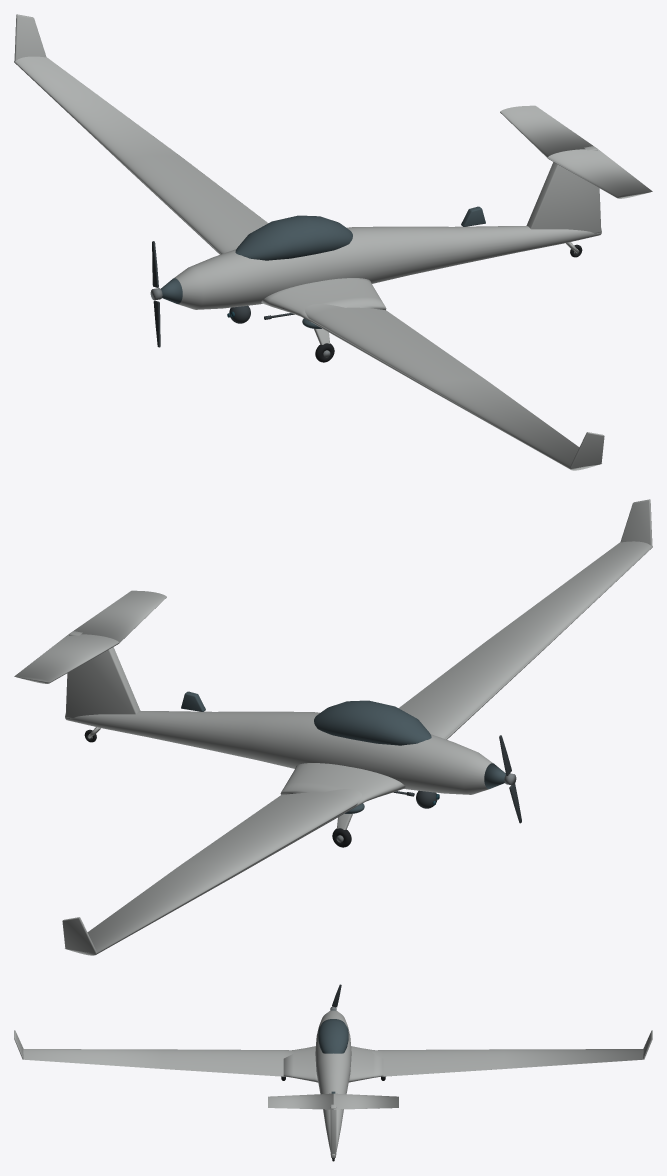
Rendered from airshield-ximango.glb.
The picture shows the model from 3 angles, top to bottom: view 1: azimuth 30°, elevation 25°; view 2: azimuth 150°, elevation 25°; view 3: azimuth 270°, elevation 25°; orthographic projection. The views are drawn at different scales.
Visible parts, largest first — view 1: Ximango-derived composite fuselage, Port wing, Starboard wing, Ximango-profile avionics fairing, Vertical stabilizer, Starboard wing root blended fairing, Starboard horizontal stabilizer, Port horizontal stabilizer, Port winglet, Starboard winglet; view 2: Ximango-derived composite fuselage, Starboard wing, Port wing, Ximango-profile avionics fairing, Vertical stabilizer, Port wing root blended fairing, Port horizontal stabilizer, Starboard horizontal stabilizer, Starboard winglet, Port winglet; view 3: Starboard wing, Port wing, Ximango-derived composite fuselage, Port wing root blended fairing, Starboard wing root blended fairing, Ximango-profile avionics fairing, Starboard horizontal stabilizer, Port horizontal stabilizer, Vertical stabilizer.
Part boxes in pixels (bbox=[...]): Ximango-derived composite fuselage: bbox=[174, 226, 601, 309]; Port wing: bbox=[14, 56, 267, 254]; Starboard wing: bbox=[305, 304, 601, 470]; Ximango-profile avionics fairing: bbox=[235, 215, 352, 260]; Vertical stabilizer: bbox=[526, 146, 601, 233]; Starboard wing root blended fairing: bbox=[261, 278, 386, 321]; Starboard horizontal stabilizer: bbox=[547, 149, 652, 198]; Port horizontal stabilizer: bbox=[500, 105, 592, 157]; Port winglet: bbox=[14, 14, 46, 60]; Starboard winglet: bbox=[570, 432, 604, 468]; Ximango-derived composite fuselage: bbox=[65, 711, 492, 794]; Starboard wing: bbox=[399, 541, 652, 739]; Port wing: bbox=[65, 789, 361, 955]; Ximango-profile avionics fairing: bbox=[314, 700, 431, 745]; Vertical stabilizer: bbox=[65, 631, 140, 718]; Port wing root blended fairing: bbox=[280, 763, 405, 806]; Port horizontal stabilizer: bbox=[14, 634, 119, 683]; Starboard horizontal stabilizer: bbox=[74, 590, 166, 642]; Starboard winglet: bbox=[620, 499, 652, 545]; Port winglet: bbox=[62, 917, 96, 953]; Starboard wing: bbox=[23, 1049, 294, 1076]; Port wing: bbox=[372, 1049, 643, 1076]; Ximango-derived composite fuselage: bbox=[315, 1010, 351, 1158]; Port wing root blended fairing: bbox=[348, 1046, 383, 1082]; Starboard wing root blended fairing: bbox=[283, 1046, 318, 1082]; Ximango-profile avionics fairing: bbox=[318, 1019, 348, 1053]; Starboard horizontal stabilizer: bbox=[268, 1093, 333, 1109]; Port horizontal stabilizer: bbox=[333, 1093, 398, 1109]; Vertical stabilizer: bbox=[330, 1104, 336, 1155].
Bounding box in the file's own units: 8.14 × 1.96 × 17.95.
